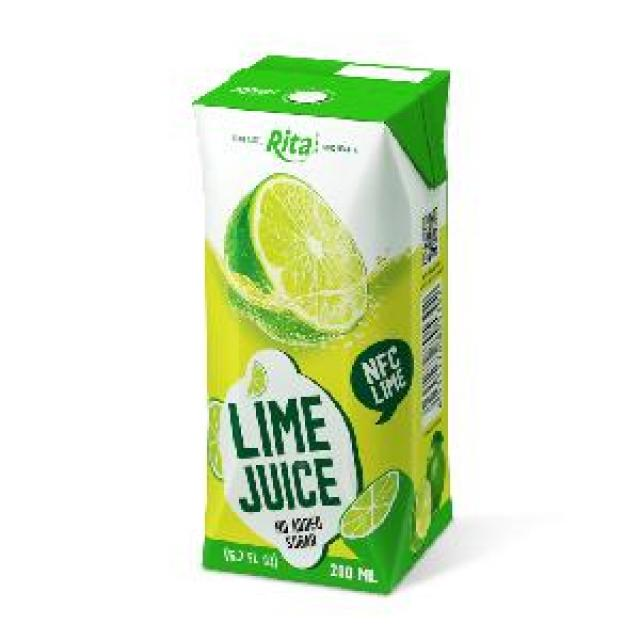non_white_jug: (175, 33, 463, 598)
